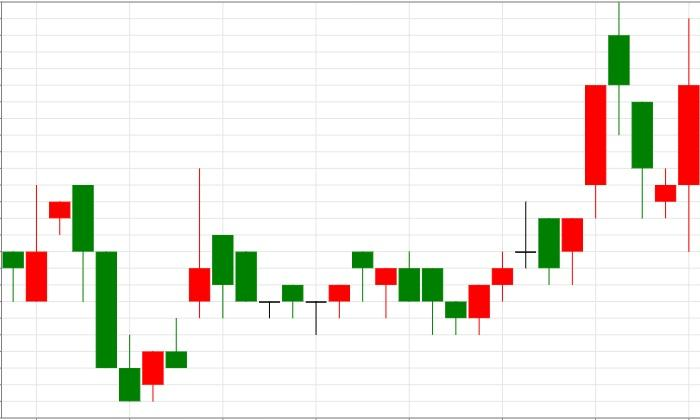bullish_engulfing_rise: (352, 251, 491, 336)
